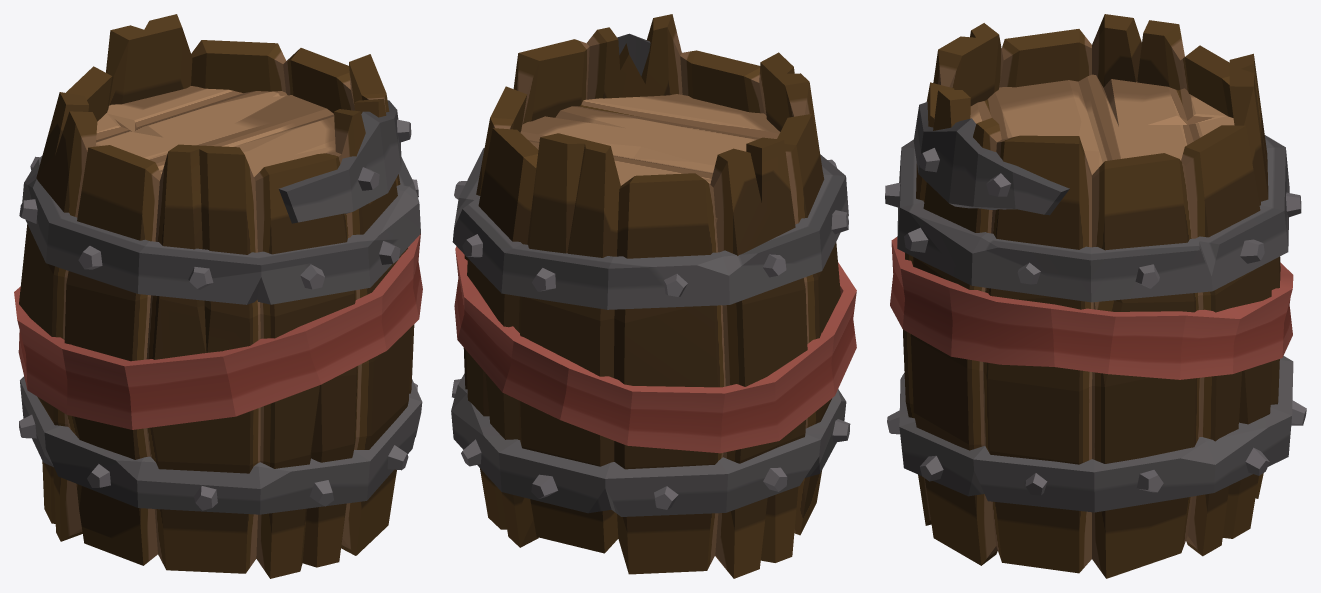
File: bog_barrel.gltf
3 renders of one model, left to right at view 1: azimuth 30°, elevation 25°; view 2: azimuth 150°, elevation 25°; view 3: azimuth 270°, elevation 25°, orthographic. The views are drawn at different scales.
Visible parts, largest first — view 1: bog_barrel; view 2: bog_barrel; view 3: bog_barrel.
Boxes of the visible parts, x1=… form: bog_barrel: x1=14, y1=14, x2=422, y2=578; bog_barrel: x1=451, y1=14, x2=856, y2=578; bog_barrel: x1=885, y1=14, x2=1306, y2=578.
Bounding box in the file's own units: 0.9344 × 1.12 × 0.9548.
1 material, 1 textured.
